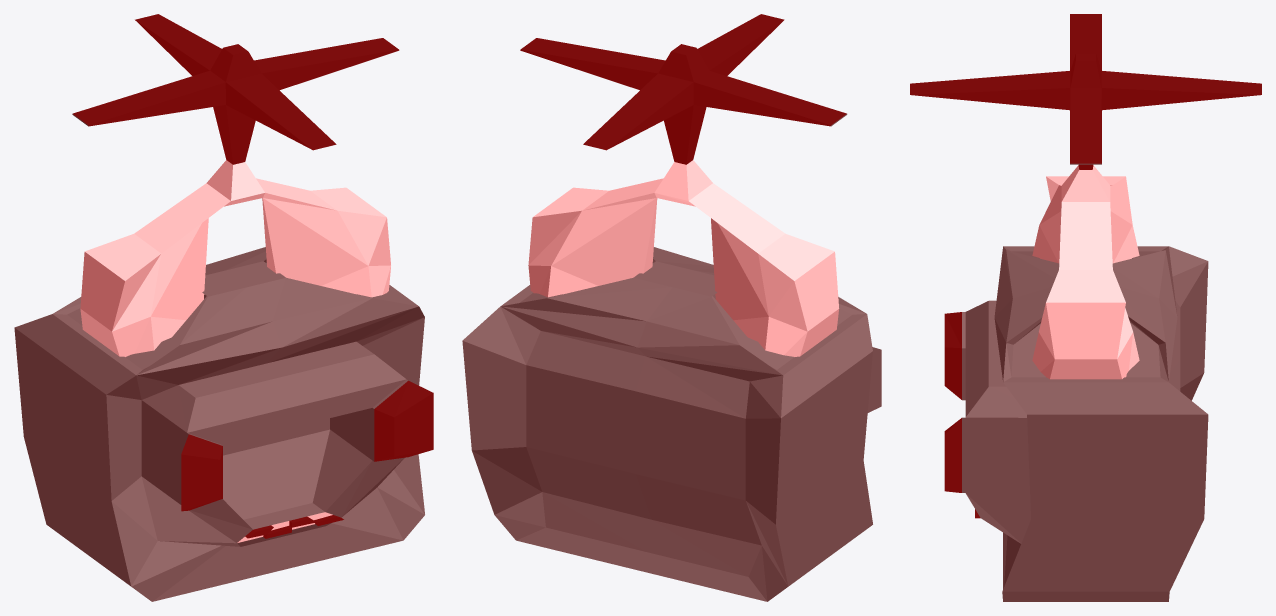
File: Flying Big.fbx
The picture shows the model from 3 angles, left to right: view 1: azimuth 30°, elevation 25°; view 2: azimuth 150°, elevation 25°; view 3: azimuth 270°, elevation 25°; orthographic projection.
Visible parts, largest first — view 1: polySurface1; view 2: polySurface1; view 3: polySurface1.
Part boxes in pixels (<box>): polySurface1: <box>14,14,433,601</box>; polySurface1: <box>462,14,881,601</box>; polySurface1: <box>910,14,1261,601</box>.
Size of the model in its own units: 219 by 322 by 212.
